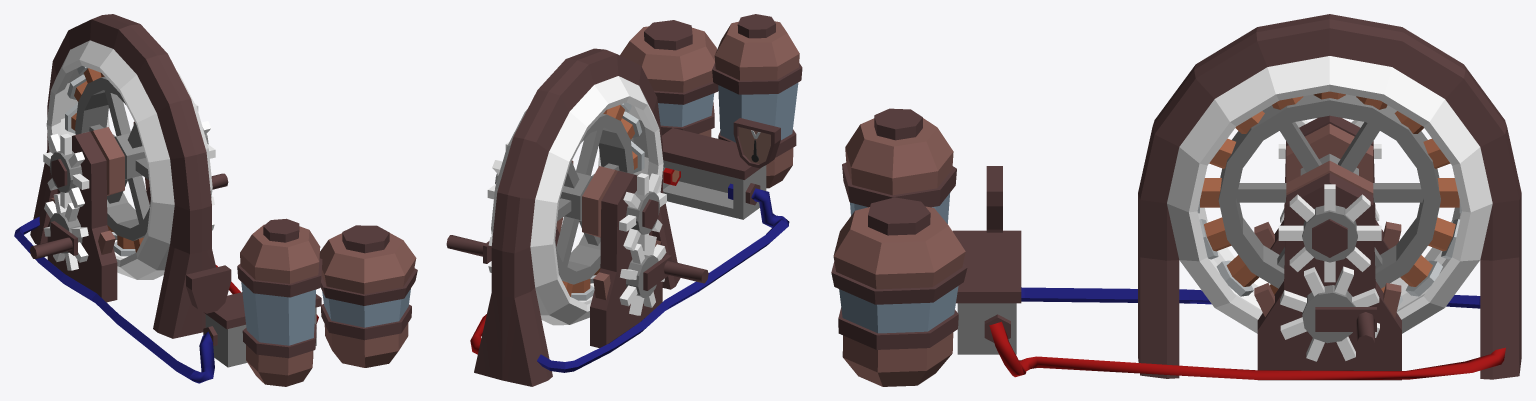
The model's file is NewCrankPuzzle.fbx.
3 views of the same model, side by side, from view 1: azimuth 30°, elevation 25°; view 2: azimuth 150°, elevation 25°; view 3: azimuth 270°, elevation 25° (orthographic). The views are drawn at different scales.
Parts seen in each view (by area): view 1: GeneratorShell, Boiler, Boiler_002, GeneratorWheel, Cable001, Gear_048, ReactorIndicator, Gear_049, BatterySocket, BatteryCharger__1_, CrankHandle_002, CranksArm__1_001; view 2: GeneratorShell, Boiler, GeneratorWheel, Boiler_002, Cable001, BatterySocket, BatteryCharger__1_, Gear_048, Gear_049, ReactorIndicator, CrankHandle_002, CrankHandle_1 (+1 smaller); view 3: GeneratorShell, GeneratorWheel, Boiler_002, Boiler, Cable001, BatteryCharger__1_, Gear_046, Gear_047, BatterySocket, CranksArm__1_, ReactorIndicator, CrankHandle_1.
Boxes of the visible parts, x1=… form: GeneratorShell: x1=30, y1=14, x2=215, y2=338; Boiler: x1=237, y1=218, x2=322, y2=386; Boiler_002: x1=319, y1=225, x2=417, y2=367; GeneratorWheel: x1=51, y1=66, x2=150, y2=256; Cable001: x1=14, y1=216, x2=318, y2=383; Gear_048: x1=43, y1=133, x2=89, y2=208; ReactorIndicator: x1=186, y1=265, x2=231, y2=313; Gear_049: x1=43, y1=193, x2=88, y2=270; BatterySocket: x1=205, y1=307, x2=316, y2=367; BatteryCharger__1_: x1=203, y1=292, x2=321, y2=346; CrankHandle_002: x1=30, y1=237, x2=72, y2=258; CranksArm__1_001: x1=50, y1=221, x2=77, y2=255; GeneratorShell: x1=474, y1=48, x2=680, y2=386; Boiler: x1=712, y1=14, x2=802, y2=188; GeneratorWheel: x1=555, y1=102, x2=658, y2=300; Boiler_002: x1=620, y1=20, x2=718, y2=136; Cable001: x1=470, y1=188, x2=789, y2=372; BatterySocket: x1=663, y1=160, x2=766, y2=219; BatteryCharger__1_: x1=662, y1=128, x2=761, y2=205; Gear_048: x1=619, y1=173, x2=666, y2=250; Gear_049: x1=619, y1=235, x2=666, y2=315; ReactorIndicator: x1=733, y1=118, x2=780, y2=168; CrankHandle_002: x1=664, y1=261, x2=708, y2=283; CrankHandle_1: x1=446, y1=235, x2=485, y2=256; GeneratorShell: x1=1138, y1=14, x2=1521, y2=380; GeneratorWheel: x1=1197, y1=91, x2=1461, y2=306; Boiler_002: x1=831, y1=197, x2=967, y2=386; Boiler: x1=842, y1=108, x2=956, y2=223; Cable001: x1=989, y1=287, x2=1505, y2=379; BatteryCharger__1_: x1=952, y1=230, x2=1021, y2=342; Gear_046: x1=1278, y1=184, x2=1381, y2=282; Gear_047: x1=1280, y1=266, x2=1379, y2=361; BatterySocket: x1=957, y1=303, x2=1016, y2=354; CranksArm__1_: x1=1315, y1=307, x2=1376, y2=331; ReactorIndicator: x1=986, y1=166, x2=1002, y2=232; CrankHandle_1: x1=1356, y1=312, x2=1374, y2=351.
Bounding box in the file's own units: 562 × 604 × 1115.
